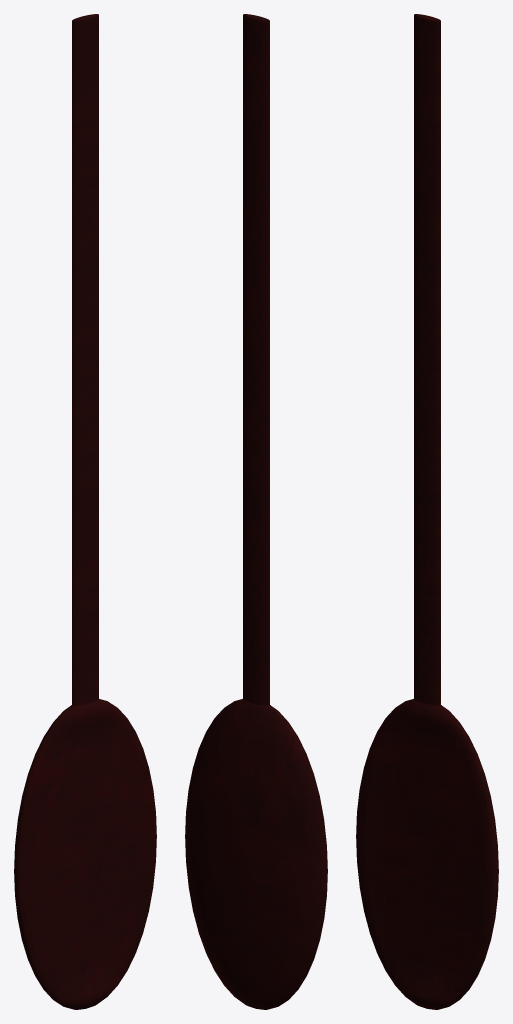
Rendered from spoon.fbx.
3 views of the same model, side by side, from view 1: azimuth 30°, elevation 25°; view 2: azimuth 150°, elevation 25°; view 3: azimuth 330°, elevation 25° (orthographic).
Parts seen in each view (by area): view 1: spoon:pSphere1, spoon:pCylinder1; view 2: spoon:pSphere1, spoon:pCylinder1; view 3: spoon:pSphere1, spoon:pCylinder1.
Boxes of the visible parts, x1,y1,x2,y2 form: spoon:pSphere1: [14, 699, 156, 1009]; spoon:pCylinder1: [72, 14, 98, 705]; spoon:pSphere1: [185, 699, 327, 1009]; spoon:pCylinder1: [243, 14, 269, 705]; spoon:pSphere1: [356, 699, 498, 1009]; spoon:pCylinder1: [414, 14, 440, 705].
Bounding box in the file's own units: 1.98 × 13.15 × 0.3653.
Materials: 1 (1 with a texture image).
